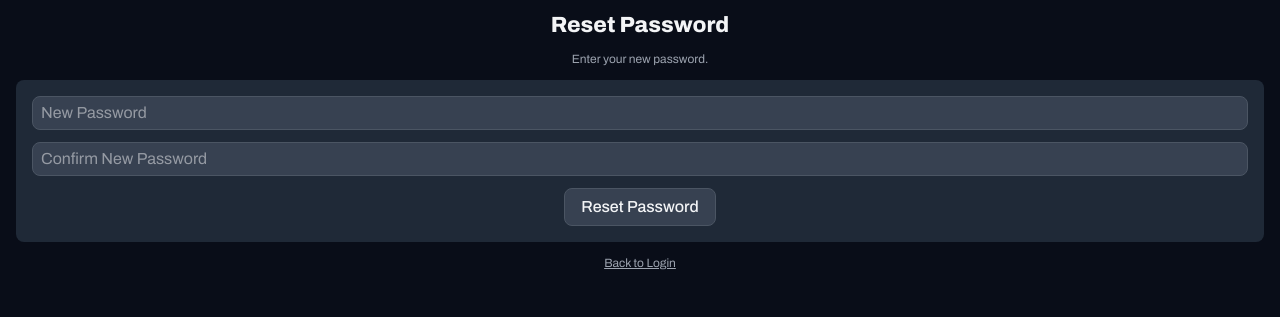
Test case: ResetPasswordForm Component › Validation › shows error when password is empty
What coordinates should you click on to do the following:
click the button with test id "reset-password-button"
I would click on:
 (640, 207)
Its box is 564,188 -> 716,226.
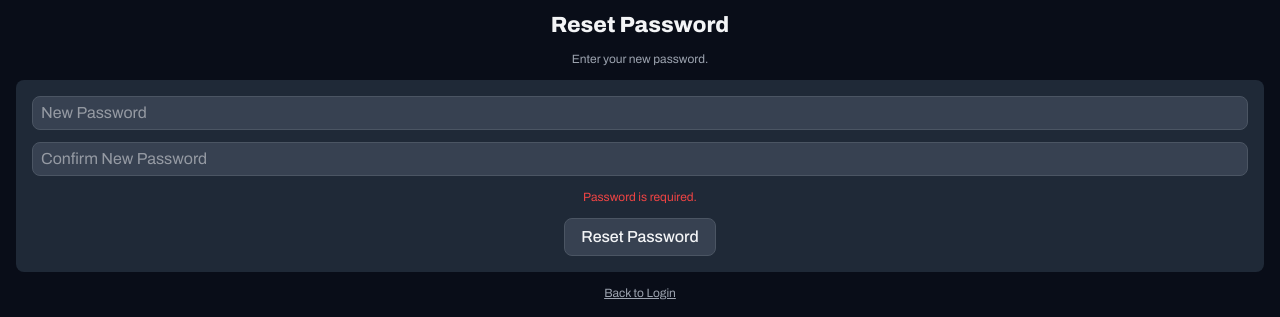
Expected: the text "Password is required." is shown, 583,188 -> 697,206
Expected: the text with class "error-message" reads "Password is required.", 583,190 -> 697,204
